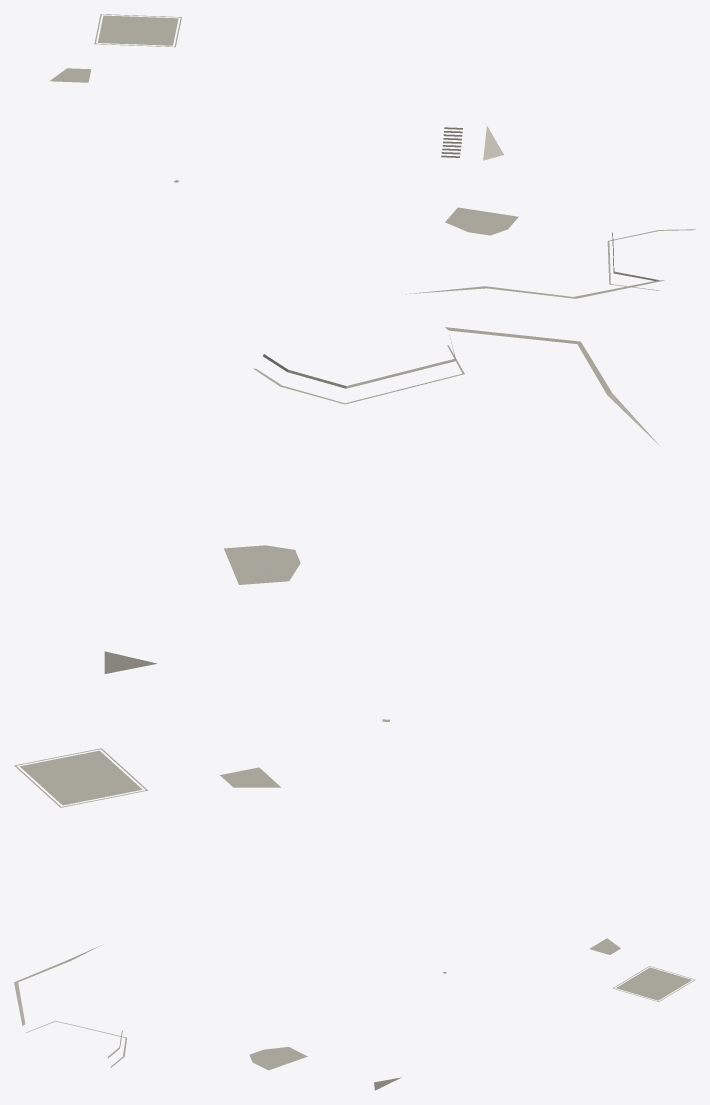
The model's file is kd_stage_135fe0_4_12.glb.
The picture shows the model from 3 angles, top to bottom: view 1: azimuth 30°, elevation 25°; view 2: azimuth 150°, elevation 25°; view 3: azimuth 270°, elevation 25°; orthographic projection. The views are drawn at different scales.
Parts seen in each view (by area): view 1: kd_stage_135fe0_4_12; view 2: kd_stage_135fe0_4_12; view 3: kd_stage_135fe0_4_12.
Boxes of the visible parts, <box> form: kd_stage_135fe0_4_12: <box>50,14,695,298</box>; kd_stage_135fe0_4_12: <box>14,327,660,807</box>; kd_stage_135fe0_4_12: <box>14,938,695,1090</box>.
Bounding box in the file's own units: 88.55 × 17.7 × 138.
Materials: 1 (1 with a texture image).
